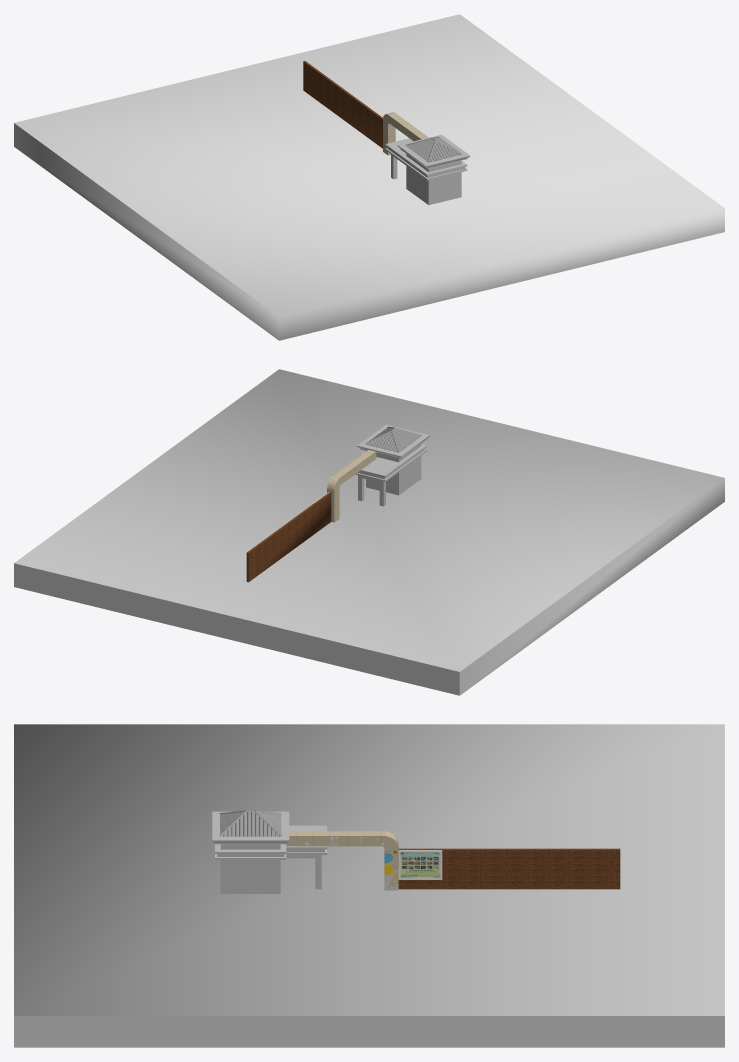
Rendered from 1791611918415_iin8p8_鸣玉溪小学幼儿园.glb.
3 views of the same model, one above another, from view 1: azimuth 30°, elevation 25°; view 2: azimuth 150°, elevation 25°; view 3: azimuth 270°, elevation 25° (orthographic). The views are drawn at different scales.
Bounding box in the file's own units: 48.45 × 8.1 × 49.92.
Materials: 15 (9 with a texture image).
